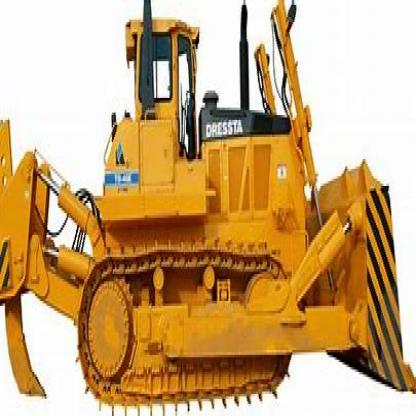bull_dozer/loader/grader: (1, 5, 415, 413)
